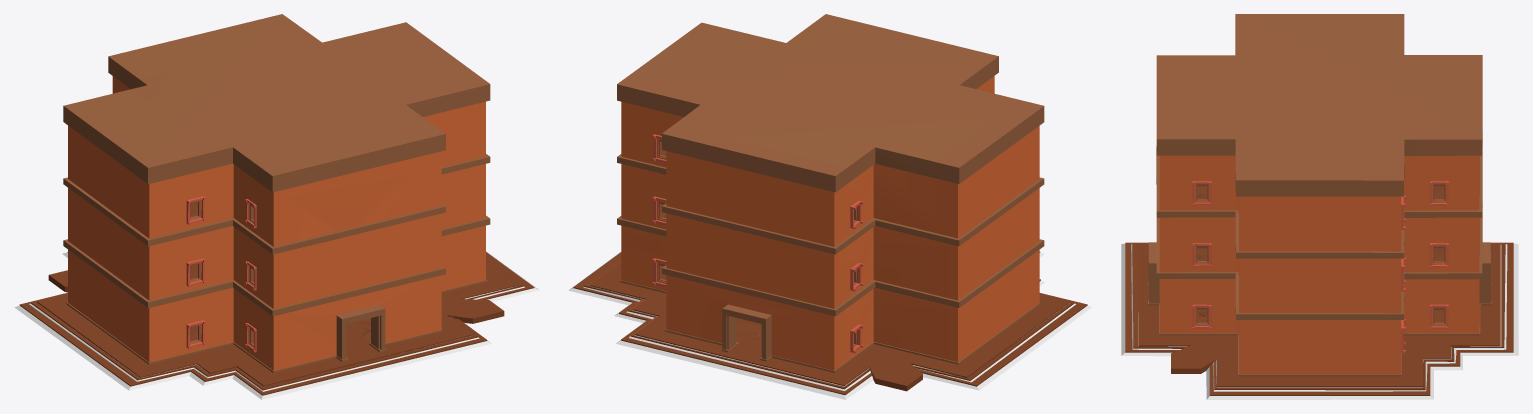
File: Lalibela (6).fbx
The picture shows the model from 3 angles, left to right: view 1: azimuth 30°, elevation 25°; view 2: azimuth 150°, elevation 25°; view 3: azimuth 270°, elevation 25°; orthographic projection.
Visible parts, largest first — view 1: Lalibela_Building_New, Lalibela_Ground_Steps, Lalibela_Ground_Steps_InviSlope.002; view 2: Lalibela_Building_New, Lalibela_Ground_Steps, Lalibela_Ground_Steps_InviSlope.002; view 3: Lalibela_Building_New, Lalibela_Ground_Steps, Lalibela_Ground_Steps_InviSlope.002.
Part boxes in pixels (x1=…): Lalibela_Building_New: x1=37, y1=14, x2=516, y2=385; Lalibela_Ground_Steps: x1=19, y1=252, x2=534, y2=395; Lalibela_Ground_Steps_InviSlope.002: x1=14, y1=251, x2=539, y2=399; Lalibela_Building_New: x1=591, y1=14, x2=1069, y2=391; Lalibela_Ground_Steps: x1=573, y1=252, x2=1087, y2=395; Lalibela_Ground_Steps_InviSlope.002: x1=568, y1=252, x2=1092, y2=399; Lalibela_Building_New: x1=1138, y1=14, x2=1500, y2=385; Lalibela_Ground_Steps: x1=1125, y1=242, x2=1513, y2=395; Lalibela_Ground_Steps_InviSlope.002: x1=1121, y1=243, x2=1518, y2=399.
Size of the model in its own units: 3716 by 1759 by 3123.
